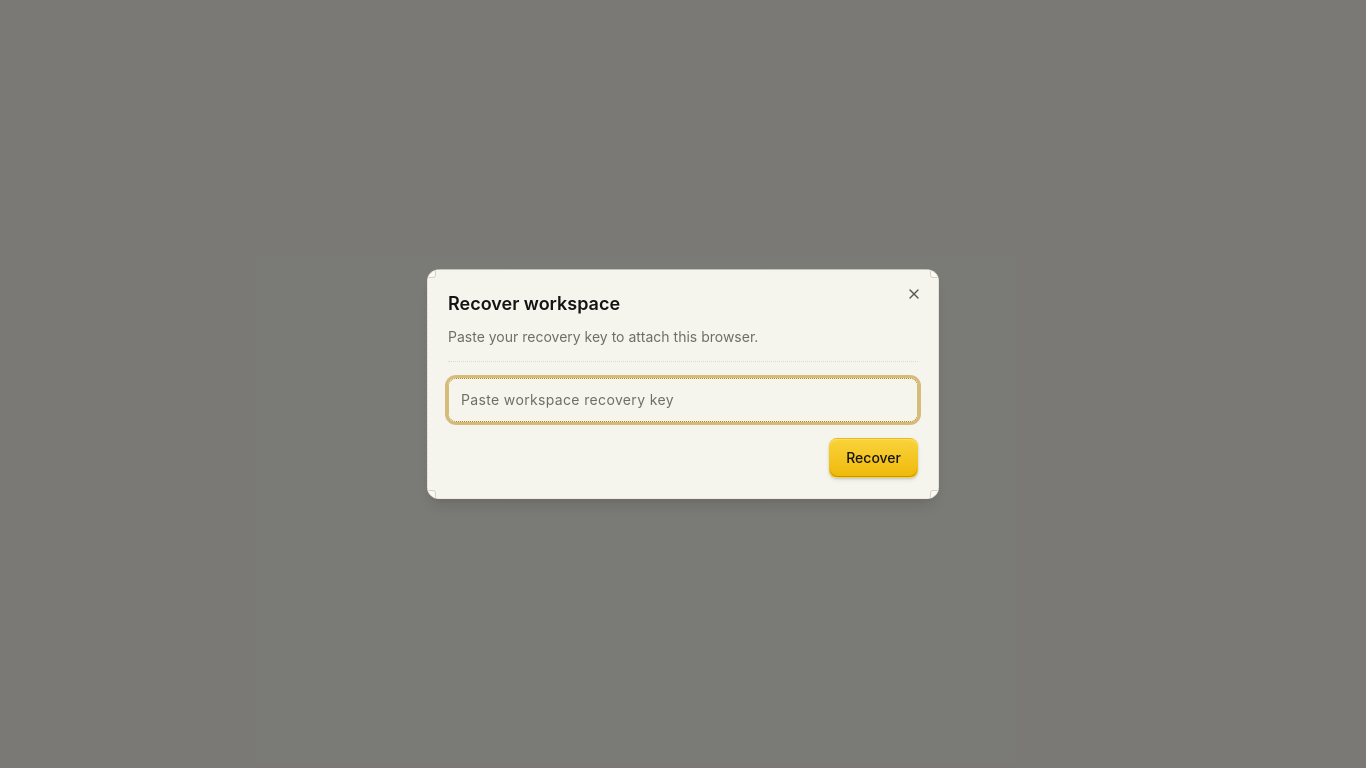
it: RecoverWorkspaceDialog › uses a localized recovery error instead of remote error details
Type "dwk_example" into the field with placeholder "Paste workspace recovery key".
click(683, 400); type("dwk_example")  # box [448,378,918,422]
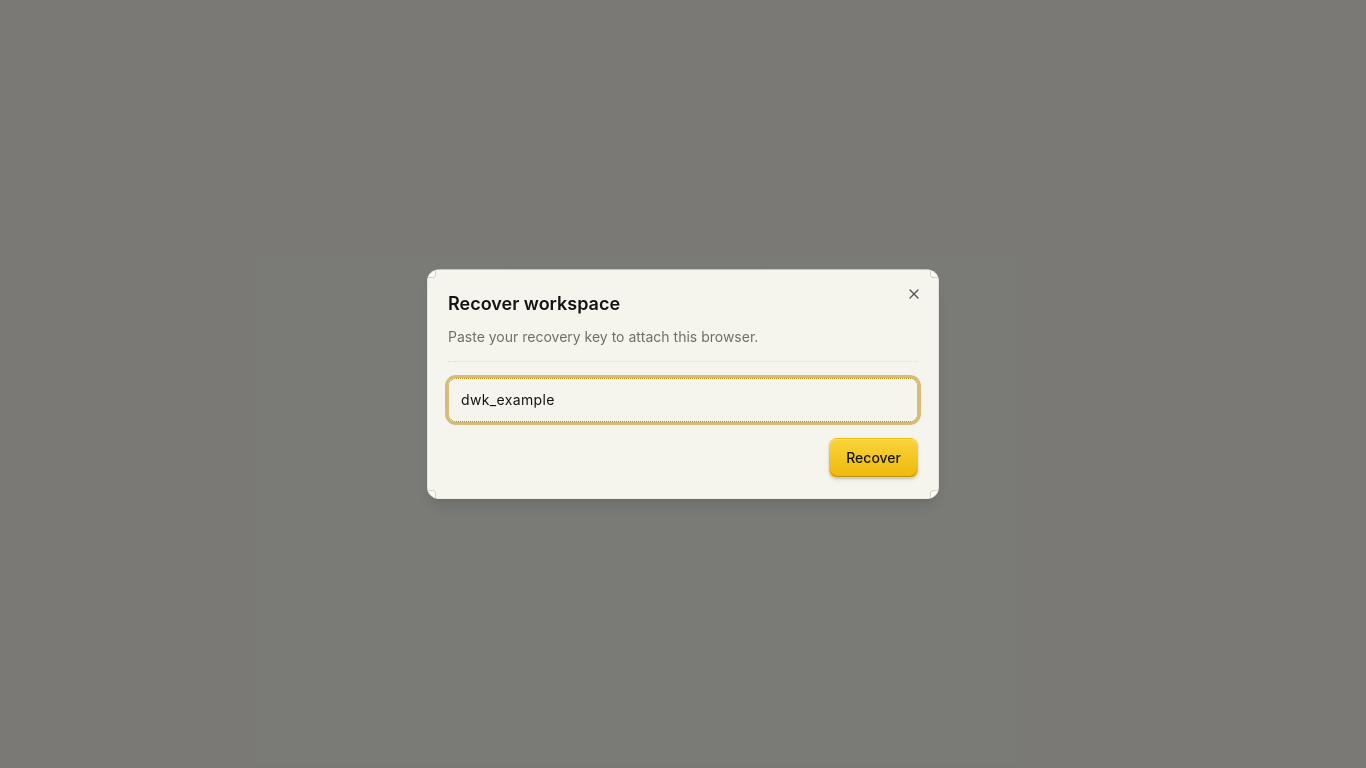
Click the button "Recover".
click(874, 458)  # box [829,438,918,478]
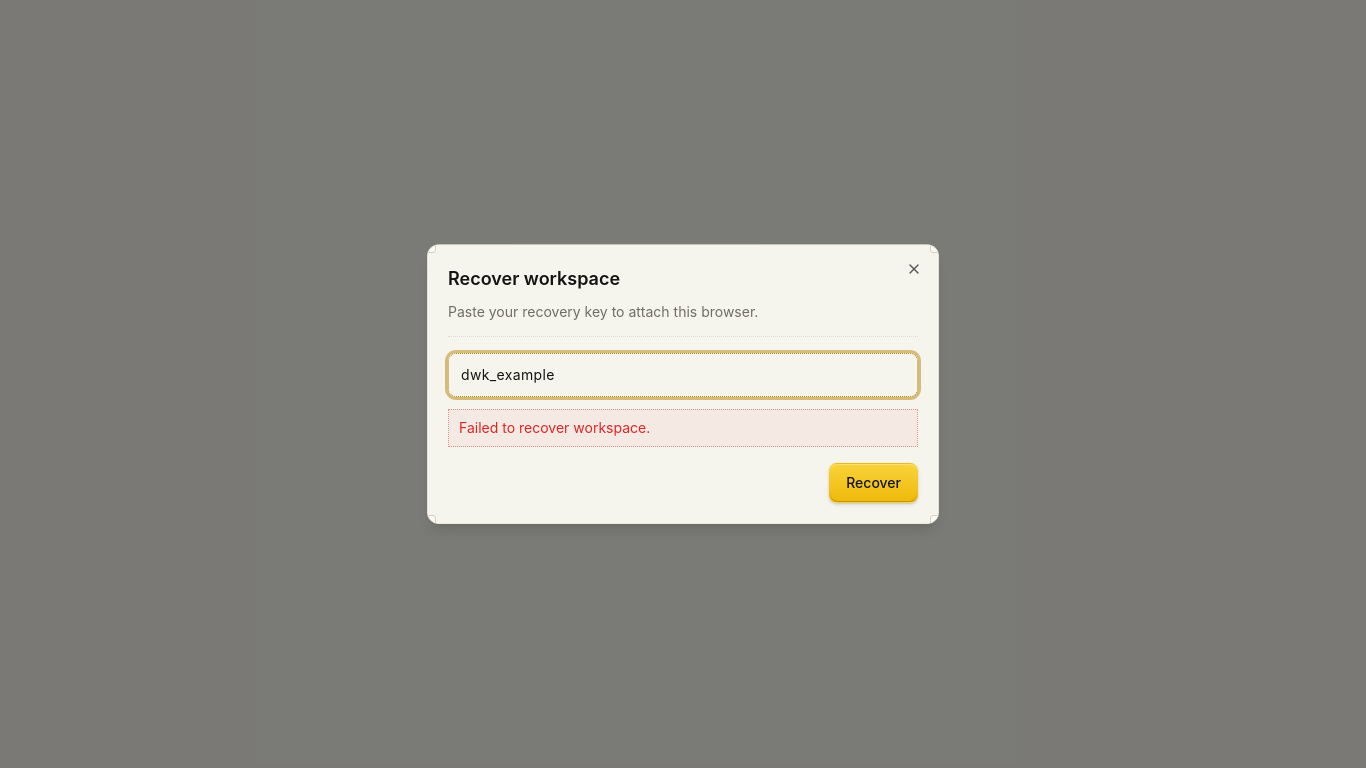
Now the message reads "Failed to recover workspace.", box [459,419,650,436]
